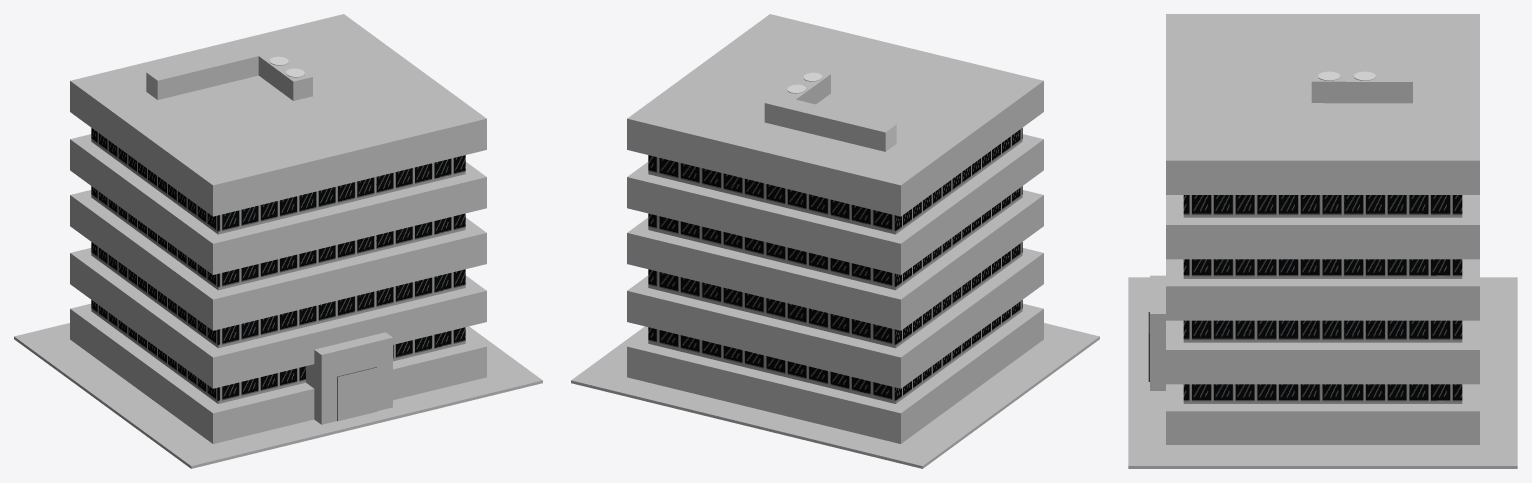
File: Research_PixelArt.fbx
3 renders of one model, left to right at view 1: azimuth 30°, elevation 25°; view 2: azimuth 150°, elevation 25°; view 3: azimuth 270°, elevation 25°, orthographic. The views are drawn at different scales.
Parts seen in each view (by area): view 1: Cube.008, Cube.004, Cube.006, Cube.002, Ground, Floor1, Cube.007, Cube.003, Cube.005, Cube.009, Cube, Cube.001; view 2: Cube.008, Cube.004, Cube.006, Cube.002, Floor1, Ground, Cube.007, Cube.003, Cube.001, Cube.005, Cube.009; view 3: Cube.008, Ground, Cube.002, Cube.006, Cube.004, Floor1, Cube.007, Cube.003, Cube.001, Cube.005, Cube.009, Cube.
Part boxes in pixels (bbox=[...]): Cube.008: bbox=[70, 14, 486, 421]; Cube.004: bbox=[70, 190, 486, 330]; Cube.006: bbox=[70, 134, 486, 274]; Cube.002: bbox=[70, 248, 486, 388]; Ground: bbox=[14, 323, 542, 468]; Floor1: bbox=[70, 303, 486, 443]; Cube.007: bbox=[91, 128, 465, 234]; Cube.003: bbox=[91, 242, 465, 348]; Cube.005: bbox=[91, 186, 465, 290]; Cube.009: bbox=[146, 43, 312, 100]; Cube: bbox=[306, 332, 392, 424]; Cube.001: bbox=[91, 300, 465, 403]; Cube.008: bbox=[627, 14, 1043, 216]; Cube.004: bbox=[627, 190, 1043, 330]; Cube.006: bbox=[627, 134, 1043, 274]; Cube.002: bbox=[627, 248, 1043, 388]; Floor1: bbox=[627, 303, 1043, 443]; Ground: bbox=[571, 323, 1099, 468]; Cube.007: bbox=[648, 128, 1022, 234]; Cube.003: bbox=[648, 242, 1022, 348]; Cube.001: bbox=[648, 300, 1022, 403]; Cube.005: bbox=[648, 186, 1022, 290]; Cube.009: bbox=[764, 69, 896, 151]; Cube.008: bbox=[1148, 14, 1479, 381]; Ground: bbox=[1128, 277, 1517, 468]; Cube.002: bbox=[1166, 320, 1479, 384]; Cube.006: bbox=[1166, 195, 1479, 259]; Cube.004: bbox=[1166, 259, 1479, 320]; Floor1: bbox=[1166, 384, 1479, 444]; Cube.007: bbox=[1183, 195, 1462, 217]; Cube.003: bbox=[1183, 320, 1462, 342]; Cube.001: bbox=[1183, 384, 1462, 403]; Cube.005: bbox=[1183, 259, 1462, 278]; Cube.009: bbox=[1311, 17, 1412, 103]; Cube: bbox=[1150, 275, 1165, 390].
Size of the model in its own units: 2061 by 1577 by 1799.
